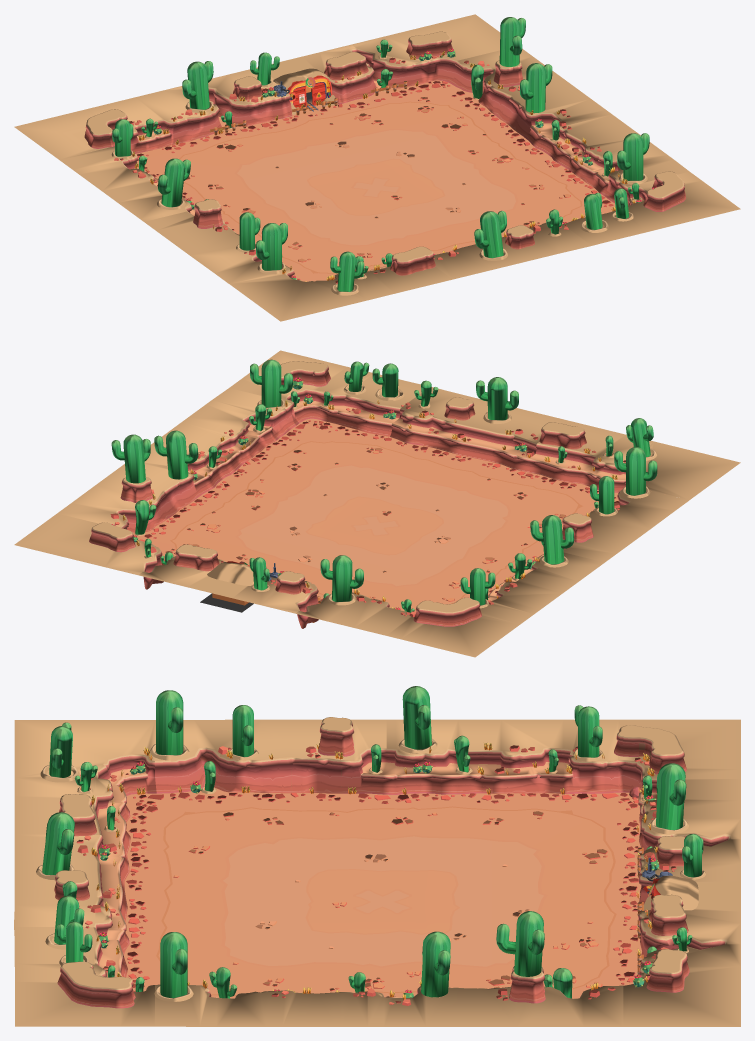
Rendered from canyon_showdown.fbx.
3 views of the same model, one above another, from view 1: azimuth 30°, elevation 25°; view 2: azimuth 150°, elevation 25°; view 3: azimuth 270°, elevation 25° (orthographic). The views are drawn at different scales.
Visible parts, largest first — view 1: bgr_canyon_showdown_ground; view 2: bgr_canyon_showdown_ground; view 3: bgr_canyon_showdown_ground.
Part boxes in pixels (left/top/right/bottom): bgr_canyon_showdown_ground: left=14, top=14, right=740, bottom=321; bgr_canyon_showdown_ground: left=14, top=350, right=740, bottom=657; bgr_canyon_showdown_ground: left=14, top=686, right=740, bottom=1026.
Size of the model in its own units: 8604 by 8604 by 1598.
1 material, 1 textured.
